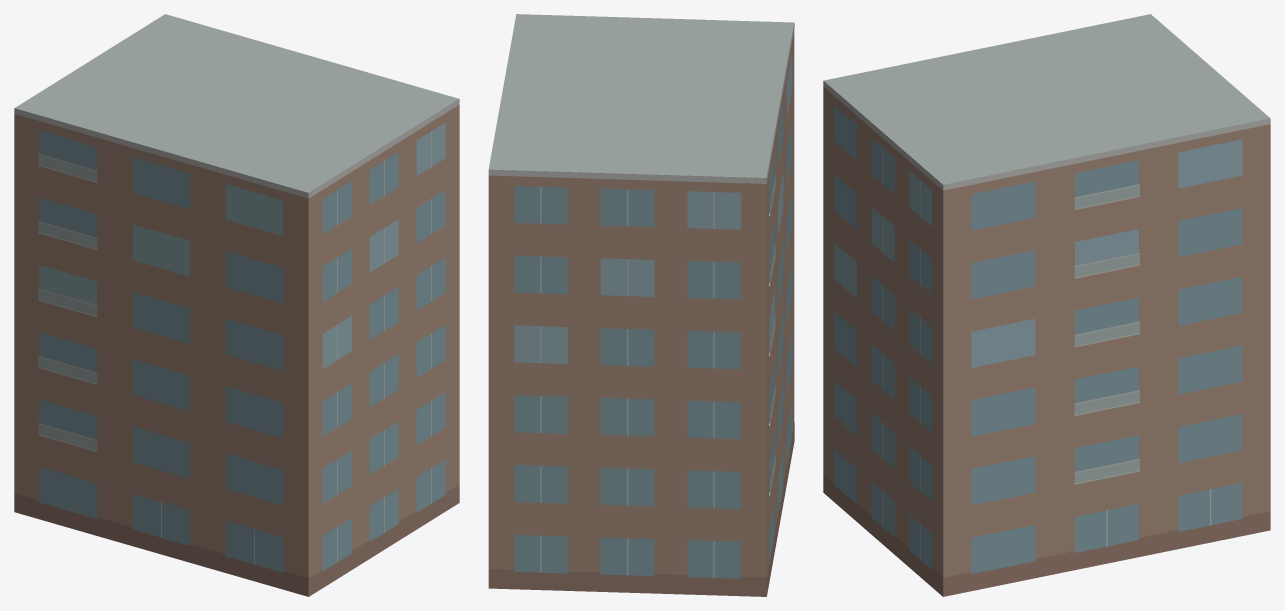
The model's file is survey-upis-32747455.glb.
The picture shows the model from 3 angles, left to right: view 1: azimuth 30°, elevation 25°; view 2: azimuth 150°, elevation 25°; view 3: azimuth 270°, elevation 25°; orthographic projection. The views are drawn at different scales.
Parts seen in each view (by area): view 1: survey-upis-32747455.tmp; view 2: survey-upis-32747455.tmp; view 3: survey-upis-32747455.tmp.
Part boxes in pixels (x1,y1,x2,y2): survey-upis-32747455.tmp: [14, 14, 459, 596]; survey-upis-32747455.tmp: [488, 14, 794, 596]; survey-upis-32747455.tmp: [823, 14, 1270, 596].
Size of the model in its own units: 15.49 by 17.4 by 17.12.
